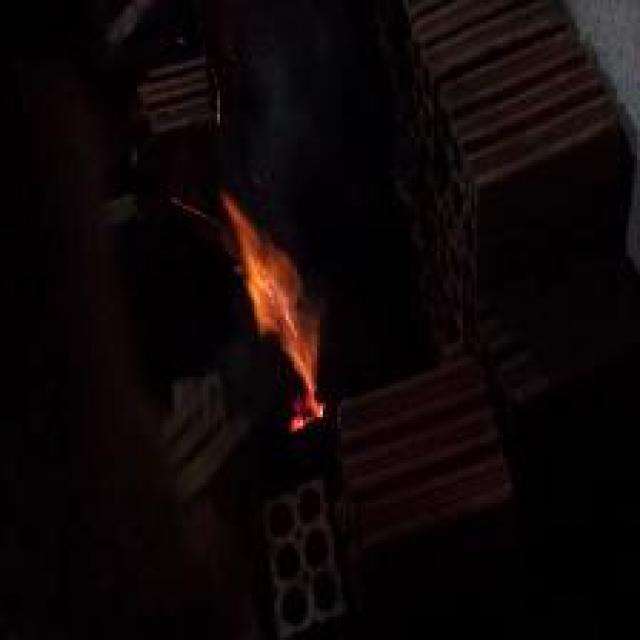Fire: (223, 196, 326, 433)
